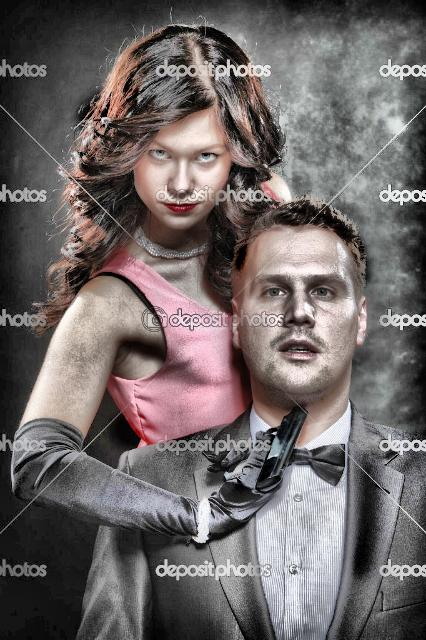pistol: (210, 400, 314, 512)
